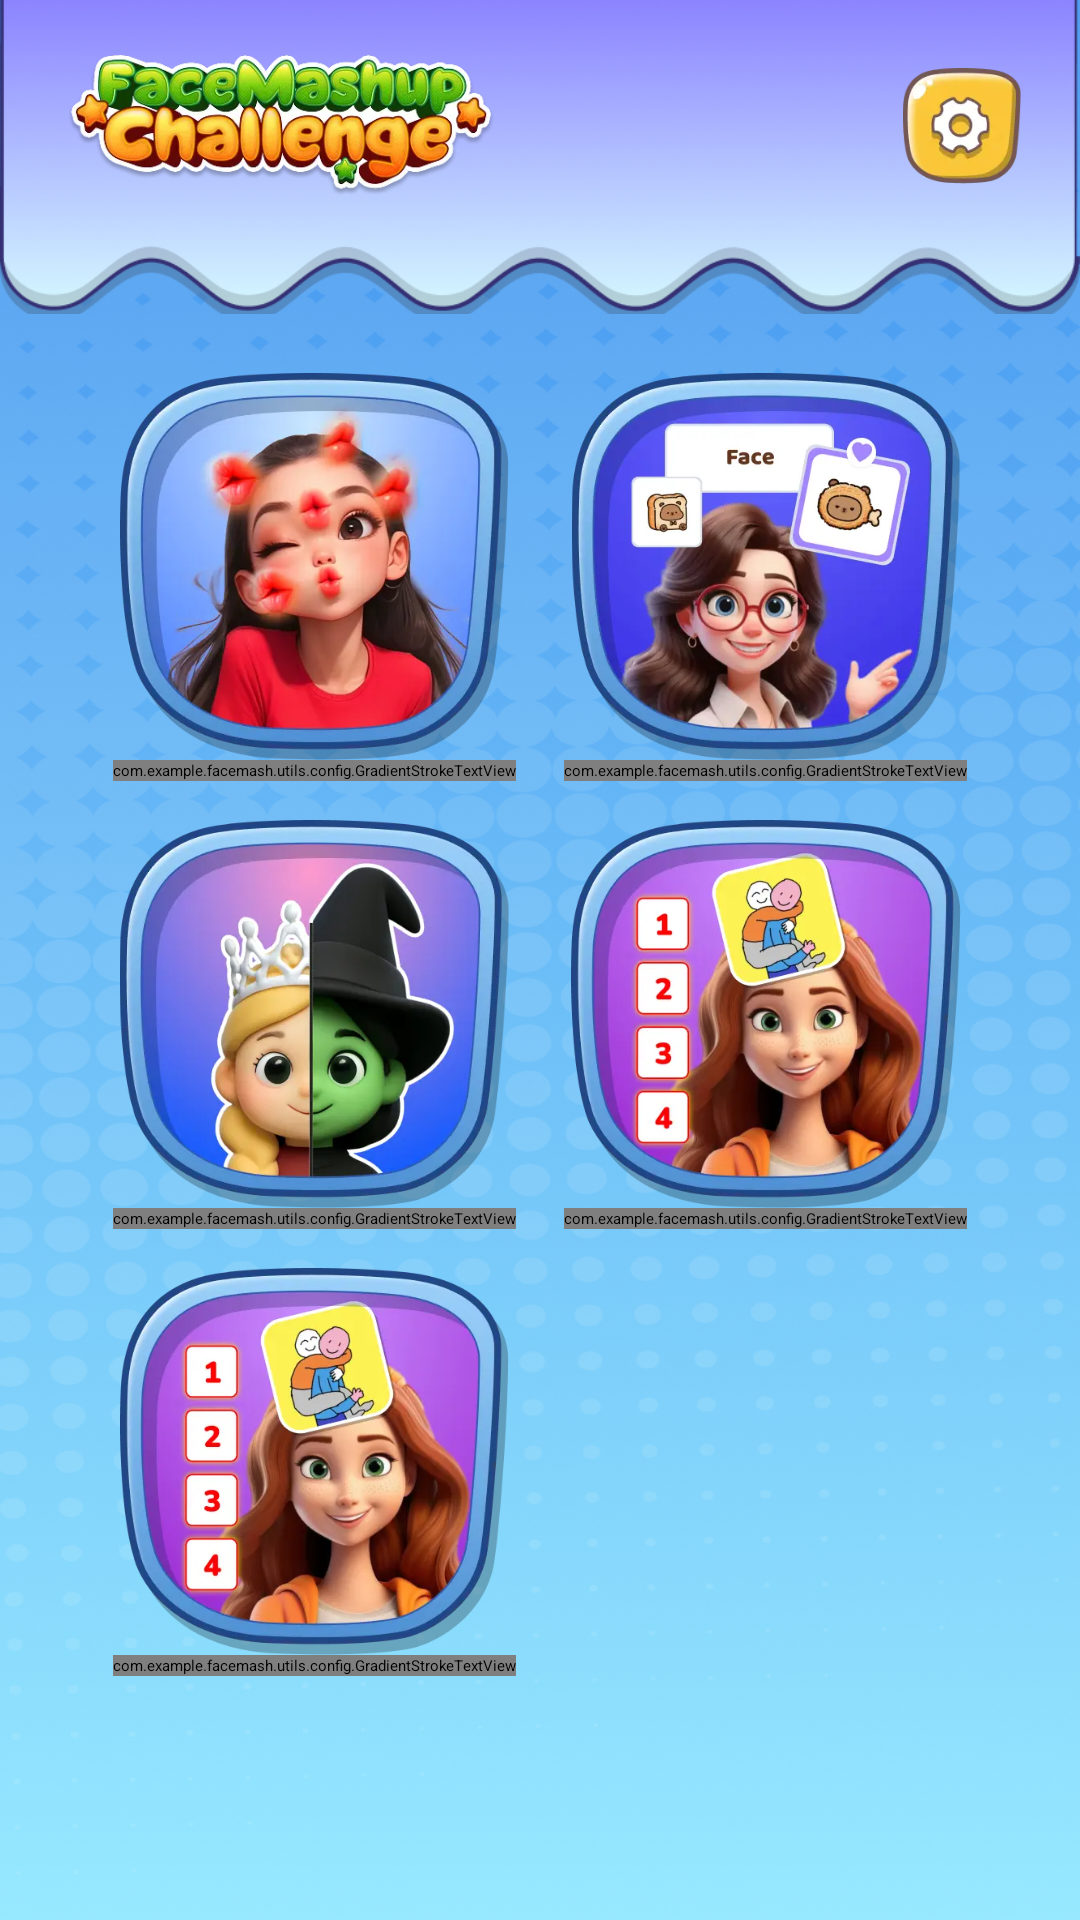

Where to tap for icons on this 1080w x 1920h app screen, as (x,y):
setting: (962,126)
